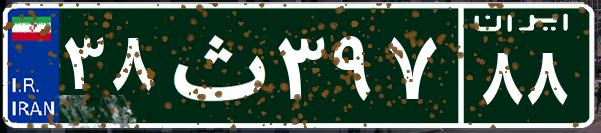3: (273, 28, 330, 110), (57, 26, 110, 107)
7: (385, 28, 445, 110)
8: (475, 38, 525, 113), (110, 28, 158, 105), (525, 38, 570, 115)
9: (330, 28, 385, 110)
ث: (158, 15, 273, 115)
